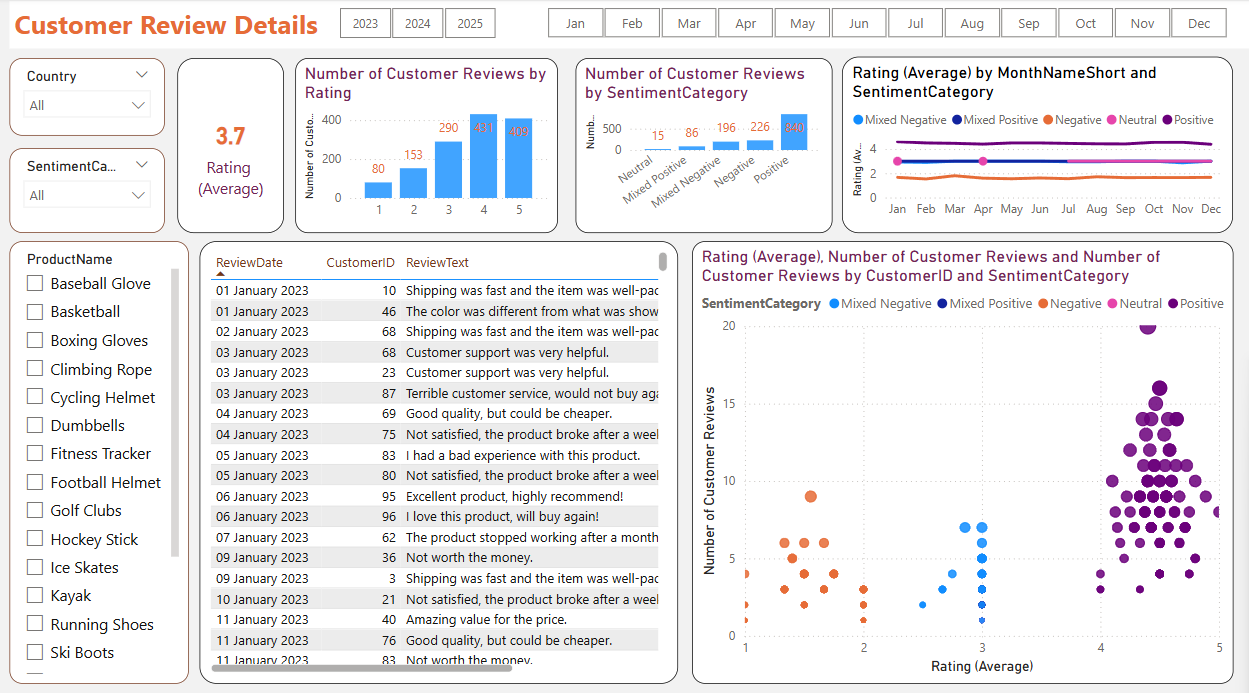

Layout of this report page (visuals, bound fields, positions):
{"tool":"powerbi","page":{"name":"Customer Review Details","canvas":[1280,720],"ordinal":3},"visuals":[{"type":"textbox","box":[12.8,4.3,1266.7,48.2],"z":0},{"type":"slicer","fields":{"Values":["dim_products.ProductName"]},"box":[12.8,249.4,182.8,452],"z":1000},{"type":"card","fields":{"Values":["_Calculations.Rating (Average)"]},"box":[184.2,62.3,109.1,178.5],"z":2000},{"type":"slicer","fields":{"Values":["Calendar.MonthNameShort"]},"box":[537,4.3,742.4,43.9],"z":3000},{"type":"lineChart","fields":{"Category":["Calendar.MonthNameShort"],"Y":["_Calculations.Rating (Average)"],"Series":["fact_customer_reviews_with_sentiment.SentimentCategory"]},"box":[862.9,60.9,399.6,179.9],"z":4000},{"type":"slicer","fields":{"Values":["Calendar.Year"]},"box":[324.1,4.1,208.5,44.4],"z":5000},{"type":"tableEx","fields":{"Values":["fact_customer_reviews_with_sentiment.ReviewDate","fact_customer_reviews_with_sentiment.CustomerID","fact_customer_reviews_with_sentiment.ReviewText","fact_customer_reviews_with_sentiment.SentimentCategory","fact_customer_reviews_with_sentiment.Rating"]},"box":[206.9,249.4,488.8,452],"z":6000},{"type":"columnChart","fields":{"Category":["fact_customer_reviews_with_sentiment.Rating"],"Y":["_Calculations.Number of Customer Reviews"]},"box":[304.6,62.3,267.8,178.5],"z":7000},{"type":"columnChart","fields":{"Category":["fact_customer_reviews_with_sentiment.SentimentCategory"],"Y":["_Calculations.Number of Customer Reviews"]},"box":[590.8,62.3,262.1,178.5],"z":8000},{"type":"slicer","fields":{"Values":["dim_customers.Country"]},"box":[12.8,62.3,158.7,79.3],"z":9000},{"type":"slicer","fields":{"Values":["fact_customer_reviews_with_sentiment.SentimentCategory"]},"box":[12.8,154.4,158.7,86.4],"z":10000},{"type":"scatterChart","fields":{"Category":["dim_customers.CustomerID"],"Series":["fact_customer_reviews_with_sentiment.SentimentCategory"],"X":["_Calculations.Rating (Average)"],"Y":["_Calculations.Number of Customer Reviews"],"Size":["_Calculations.Number of Customer Reviews"]},"box":[709.9,249.4,552.6,452],"z":11000}]}

Visuals, with their boxes in screenshot pixels (x1, y1, x2, y2), scaled from the page's 1280x720 canvas onto the 1249x693 screenshot:
textbox: box(12, 4, 1248, 51)
slicer - dim_products.ProductName: box(12, 240, 191, 675)
card - _Calculations.Rating (Average): box(180, 60, 286, 232)
slicer - Calendar.MonthNameShort: box(524, 4, 1248, 46)
lineChart - Calendar.MonthNameShort x _Calculations.Rating (Average): box(842, 59, 1232, 232)
slicer - Calendar.Year: box(316, 4, 520, 47)
tableEx - fact_customer_reviews_with_sentiment.ReviewDate x fact_customer_reviews_with_sentiment.CustomerID: box(202, 240, 679, 675)
columnChart - fact_customer_reviews_with_sentiment.Rating x _Calculations.Number of Customer Reviews: box(297, 60, 559, 232)
columnChart - fact_customer_reviews_with_sentiment.SentimentCategory x _Calculations.Number of Customer Reviews: box(576, 60, 832, 232)
slicer - dim_customers.Country: box(12, 60, 167, 136)
slicer - fact_customer_reviews_with_sentiment.SentimentCategory: box(12, 149, 167, 232)
scatterChart - dim_customers.CustomerID x fact_customer_reviews_with_sentiment.SentimentCategory: box(693, 240, 1232, 675)
